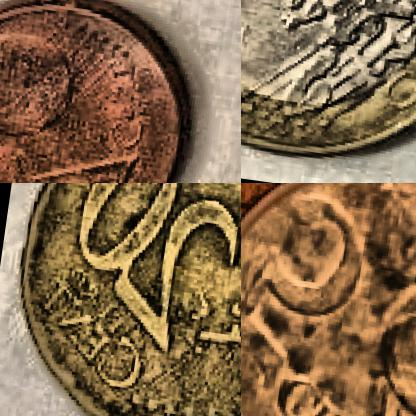coin: (0, 183, 240, 415), (241, 183, 415, 415), (0, 0, 201, 182), (241, 0, 415, 182)
